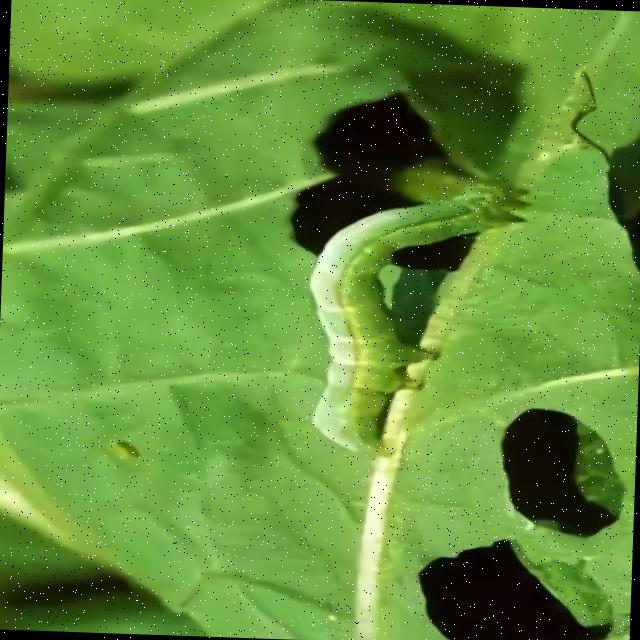worm: (304, 165, 535, 457)
